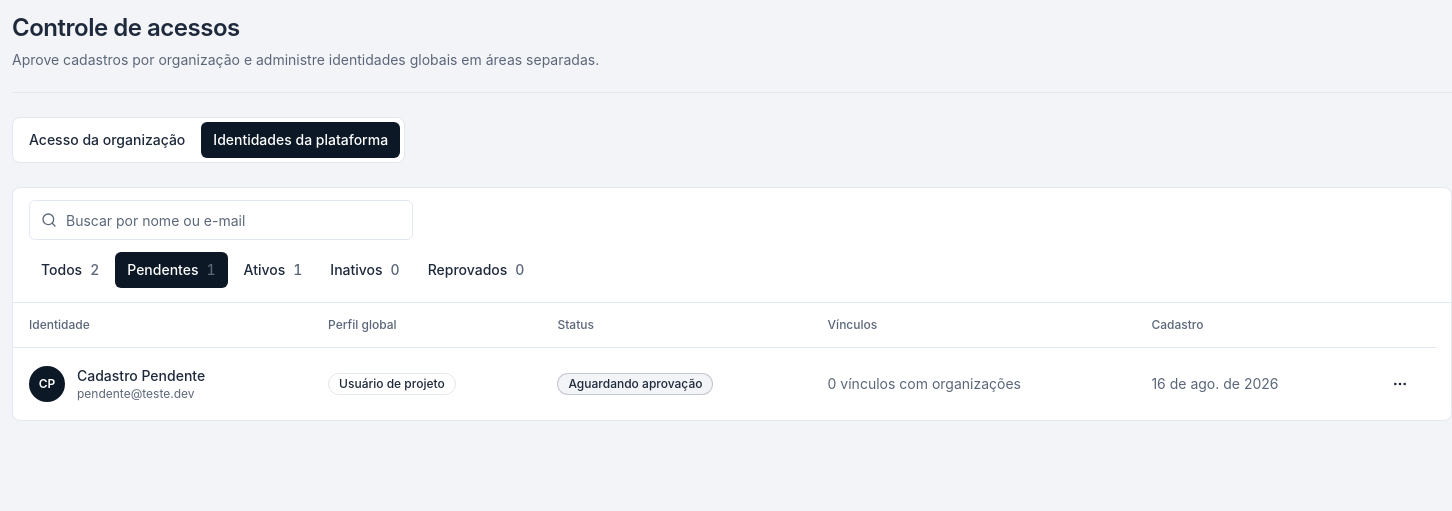
Test: AccessControlPage global pending registrations › opens the platform pending filter by default for a Super Admin
Check: the text "Cadastro Pendente" is shown, box left=77, top=366, right=205, bottom=386
Check: the text "Aguardando aprovação" is shown, box left=558, top=372, right=714, bottom=394
Click the button "Todos 2" at (70, 270), box left=29, top=252, right=111, bottom=288
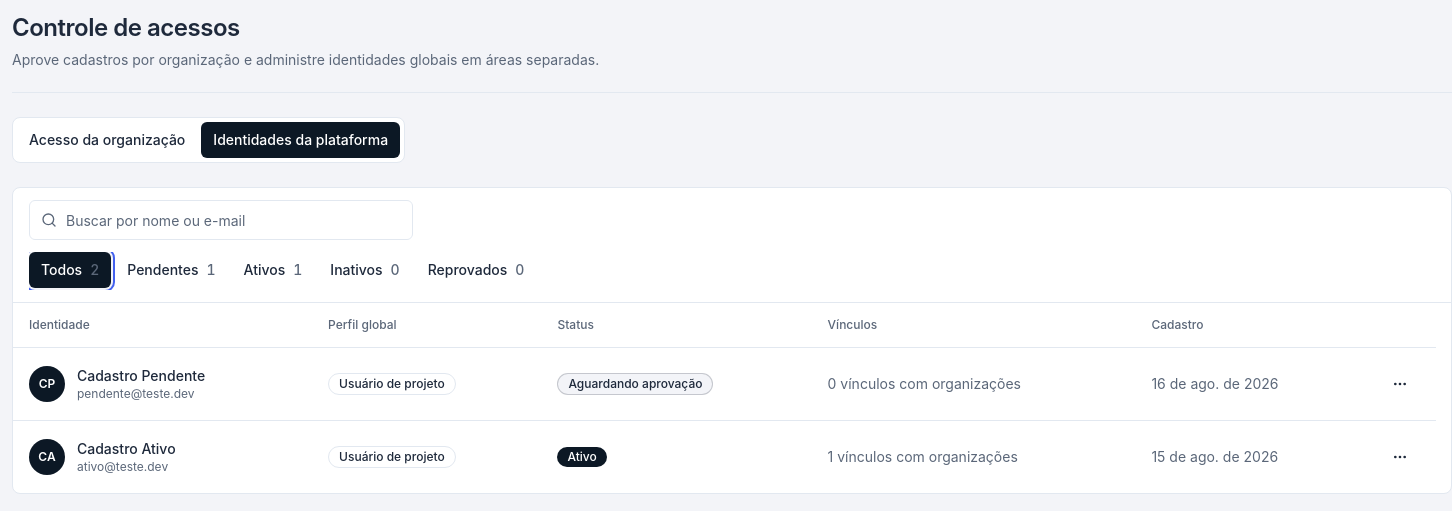
Check: the text "Cadastro Ativo" is shown, box left=77, top=438, right=176, bottom=458
